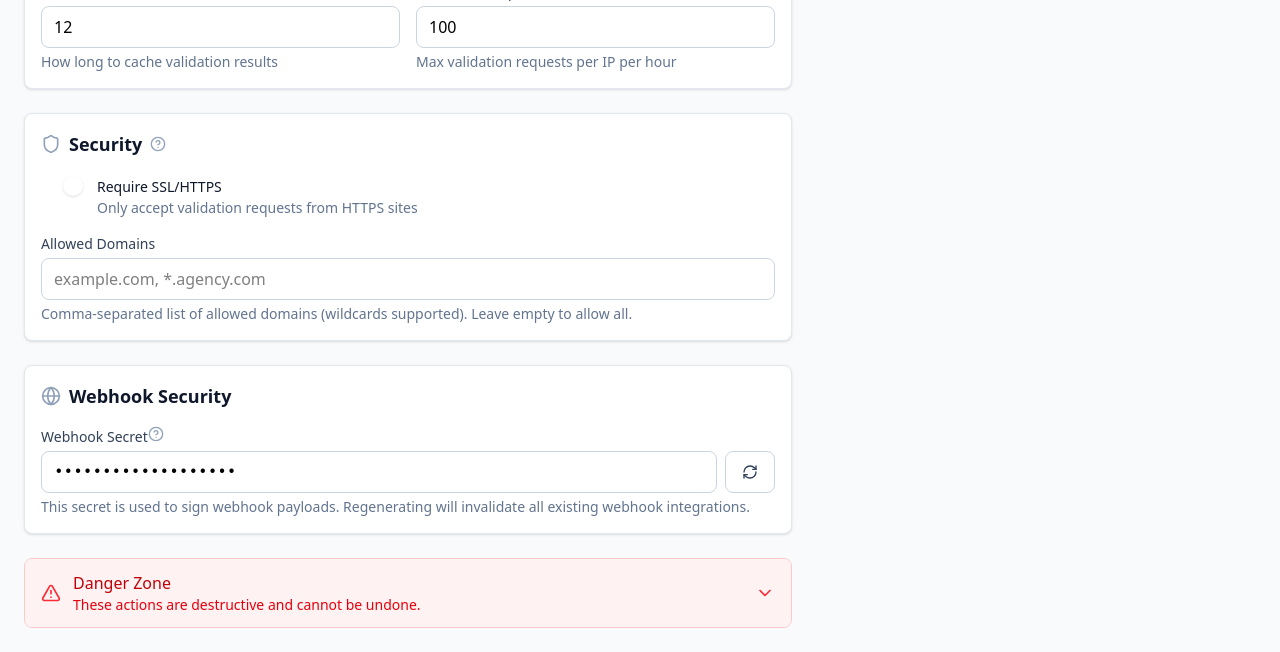
Settings › danger zone confirmation › opens confirmation dialog for Clear Cache
The width and height of the screenshot is (1280, 652).
(page scrolled)
Note: First expand danger zone
Click the heading "Danger Zone": (122, 583) [73,572,171,594]
(page scrolled)
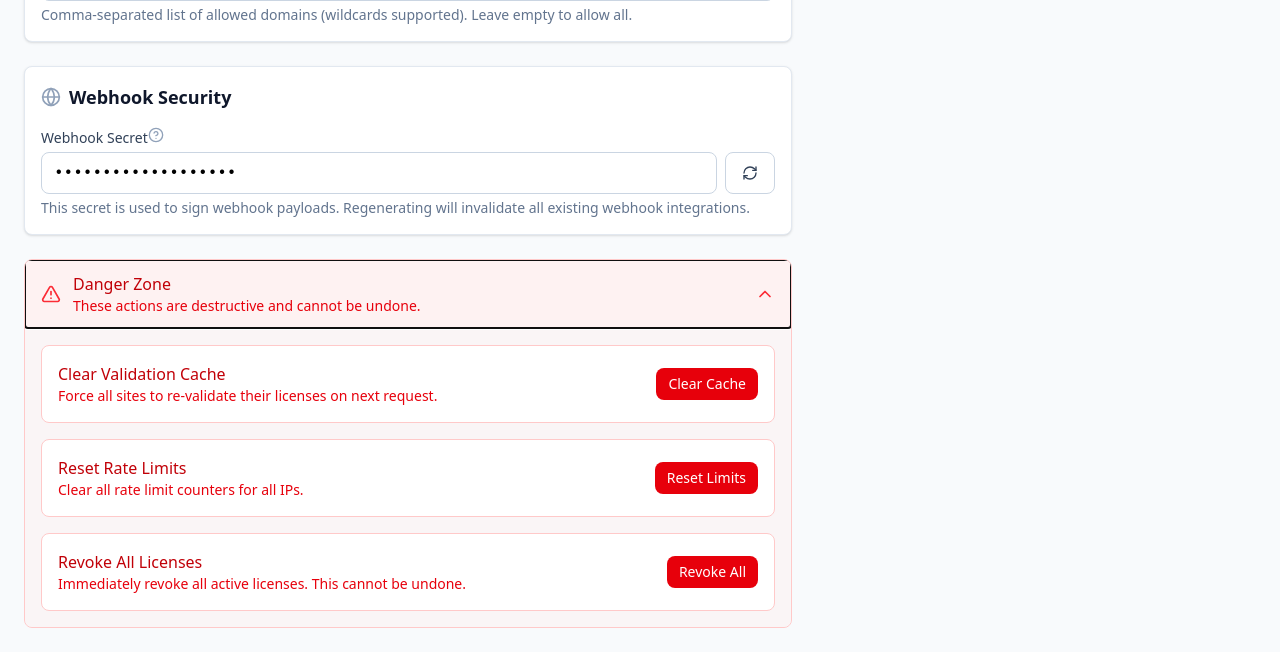
Click the button "Clear Cache": (707, 384) [656,368,758,400]
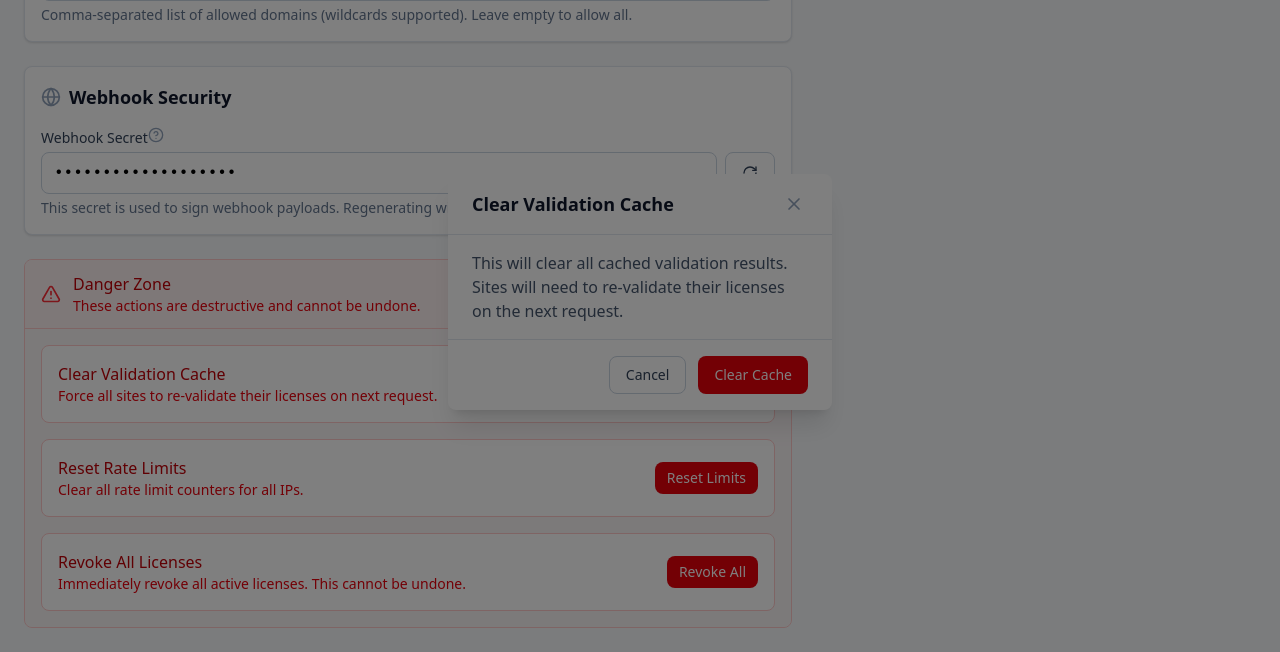
Expected: the text "This will clear all cached validation results. Sites will need to re-validate their licenses on the next request." is shown, [472,252,788,322]
